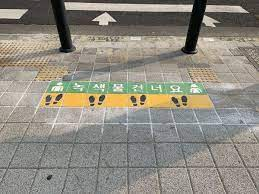guide_blocks: (1, 43, 65, 79), (189, 66, 218, 80)
